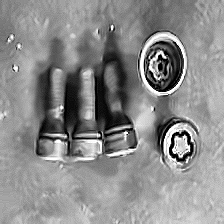defected: (1, 31, 28, 80), (90, 19, 123, 39), (145, 98, 162, 115)
